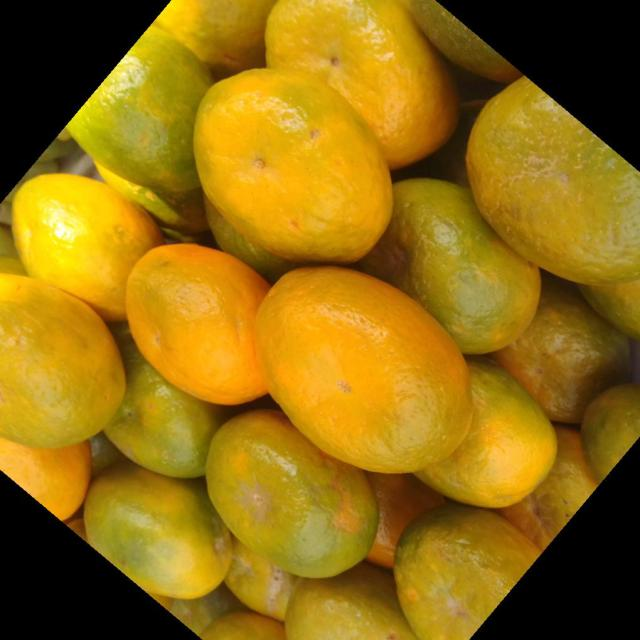fresh orange: (1, 1, 638, 638), (254, 265, 474, 474), (192, 66, 393, 263), (468, 76, 636, 284), (356, 486, 574, 640), (263, 0, 459, 169), (189, 404, 374, 582), (393, 339, 563, 513), (377, 178, 541, 354), (69, 29, 215, 213), (124, 241, 271, 405), (13, 174, 160, 318), (1, 278, 124, 450), (83, 465, 231, 598), (103, 332, 230, 479), (400, 0, 524, 84), (154, 1, 281, 72), (206, 195, 305, 284), (1, 432, 88, 523)
